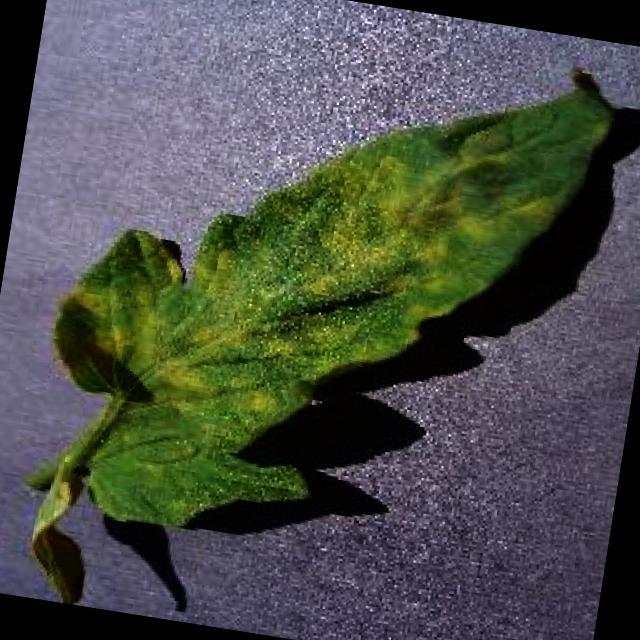Tomato mold leaf: (31, 0, 625, 588)
